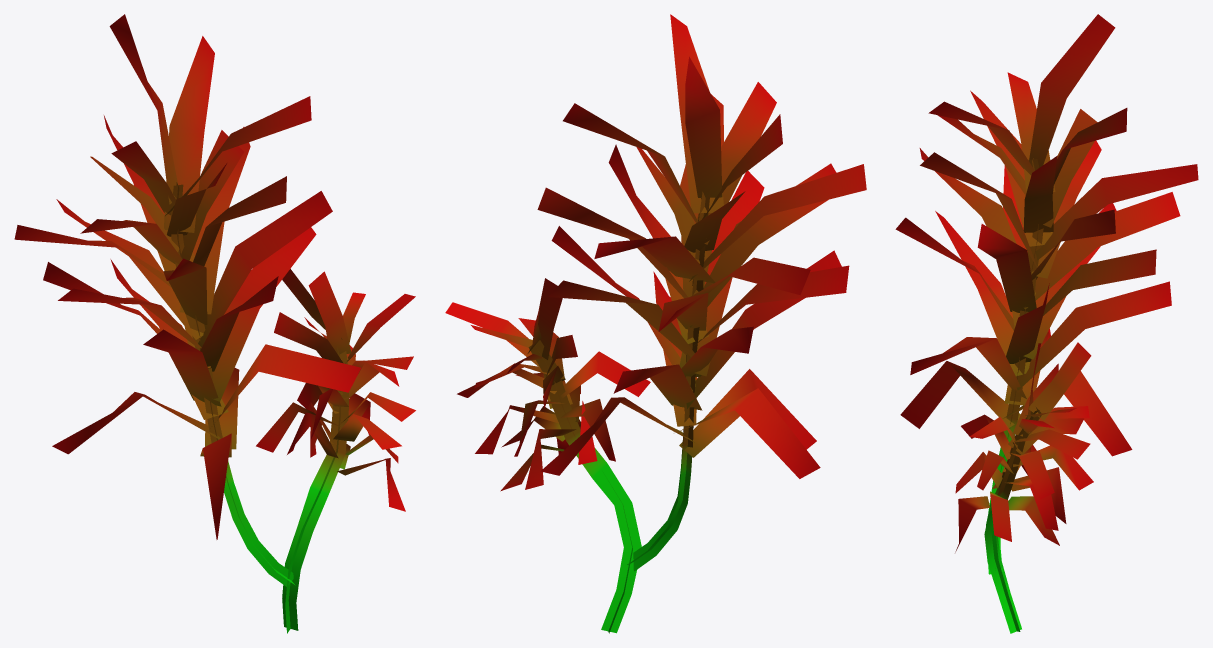
The model's file is Dragon Tree_LOD2_Var2_siumT.fbx.
3 renders of one model, left to right at view 1: azimuth 30°, elevation 25°; view 2: azimuth 150°, elevation 25°; view 3: azimuth 270°, elevation 25°, orthographic. The views are drawn at different scales.
Parts seen in each view (by area): view 1: _494e_Var2_LOD2; view 2: _494e_Var2_LOD2; view 3: _494e_Var2_LOD2.
Part boxes in pixels (x1=…): _494e_Var2_LOD2: x1=14, y1=14, x2=415, y2=633; _494e_Var2_LOD2: x1=445, y1=14, x2=866, y2=633; _494e_Var2_LOD2: x1=895, y1=14, x2=1198, y2=633.
Bounding box in the file's own units: 69.22 × 110 × 53.32.
